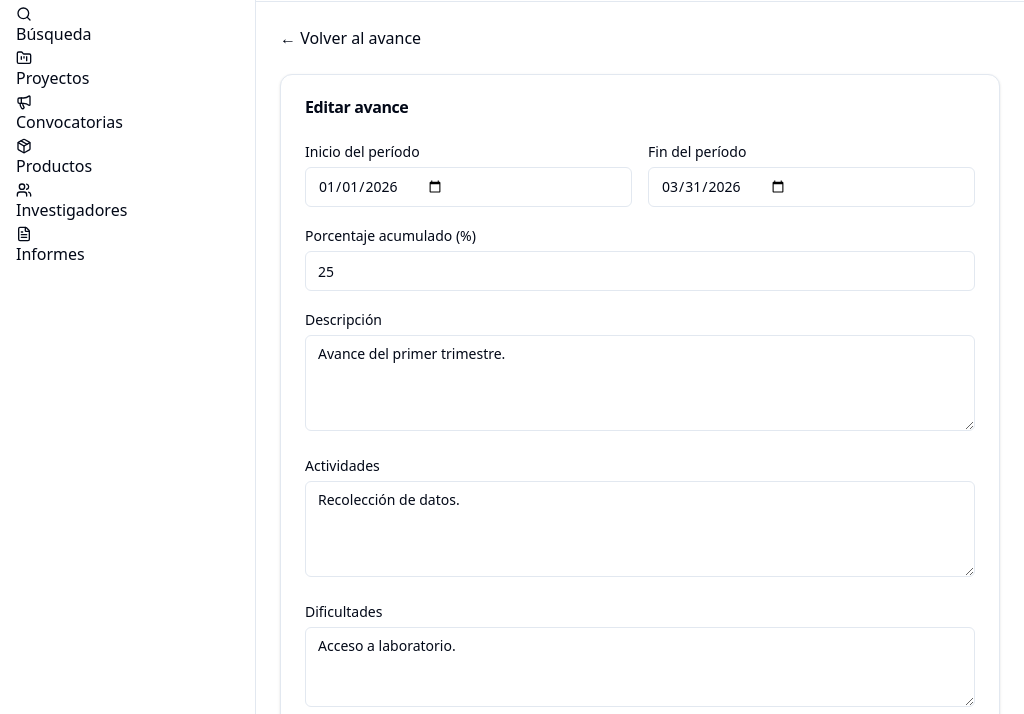
Test: EditAdvancePage — RF-043 S1 › blocks the PATCH when a required field is emptied
Clear the text box named "descripción". click: (640, 383)
box: x1=305 y1=335 x2=975 y2=431
(page scrolled)
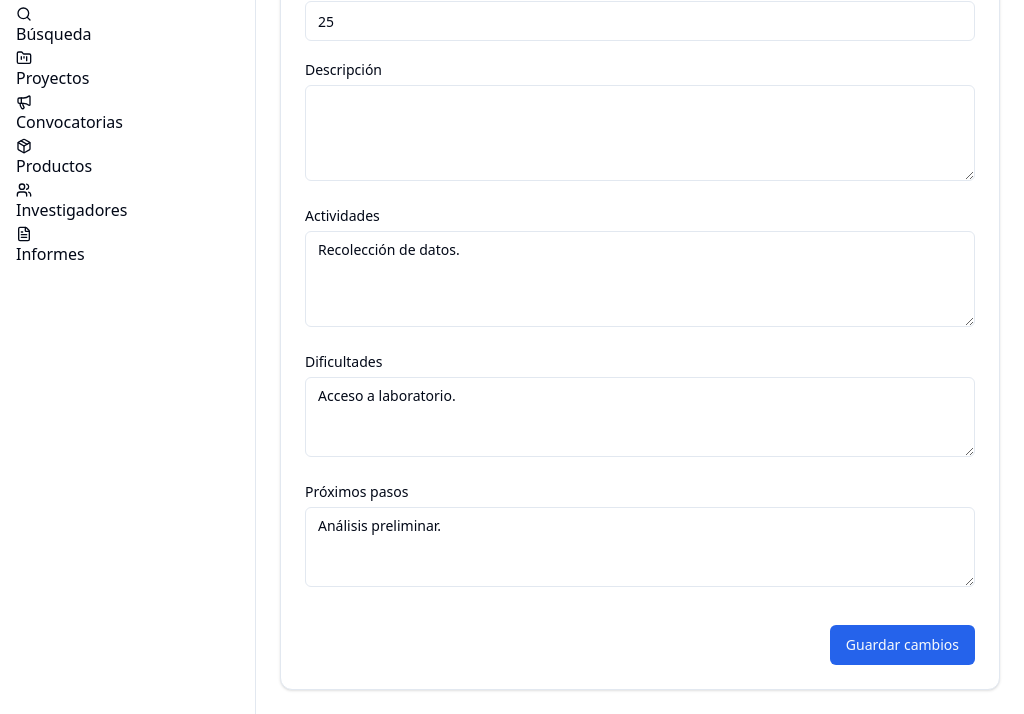
Click the button "Guardar cambios". click: (902, 645)
box: x1=830 y1=625 x2=975 y2=665
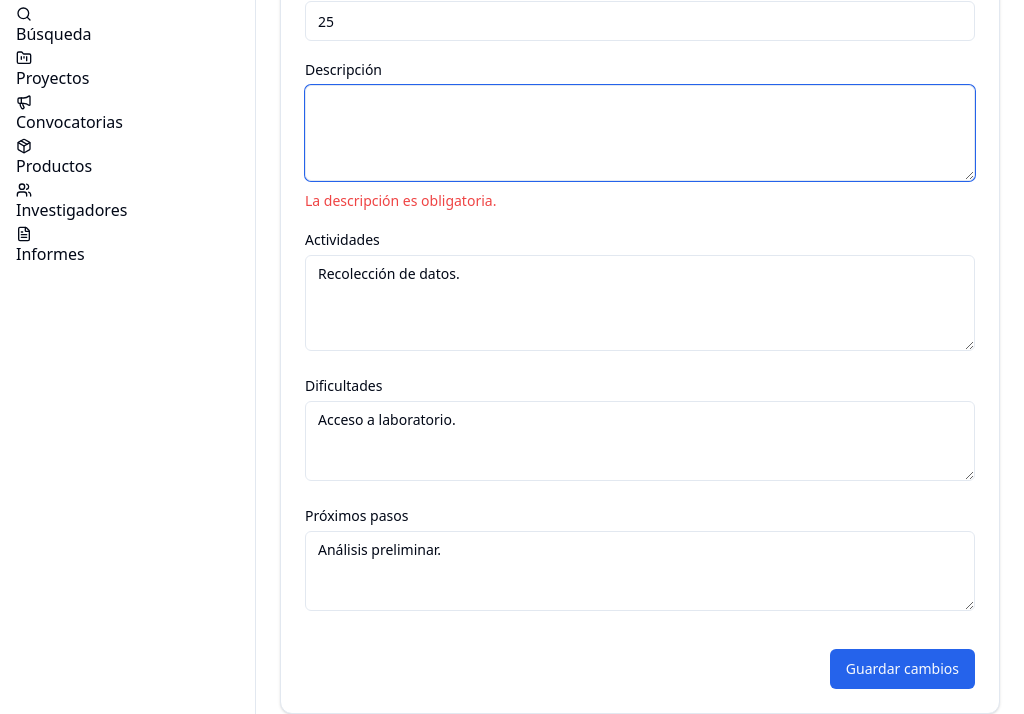
Check: the text "La descripción es obligatoria." is shown, box x1=305 y1=191 x2=496 y2=210
